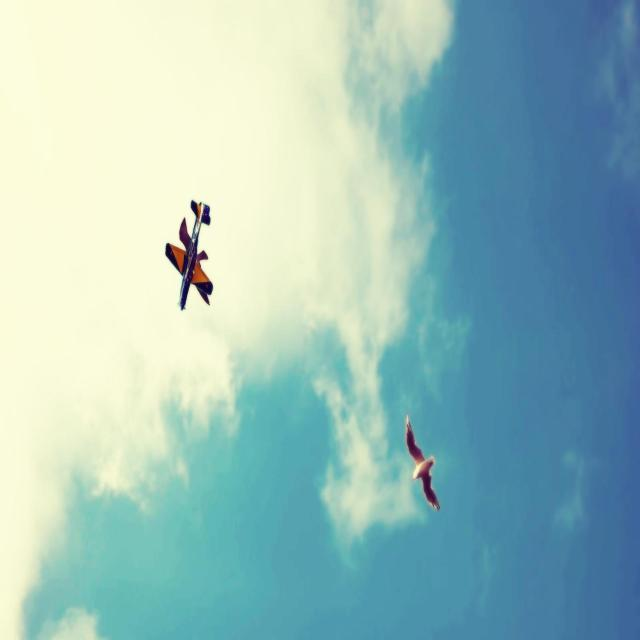airplane: (165, 198, 213, 310)
